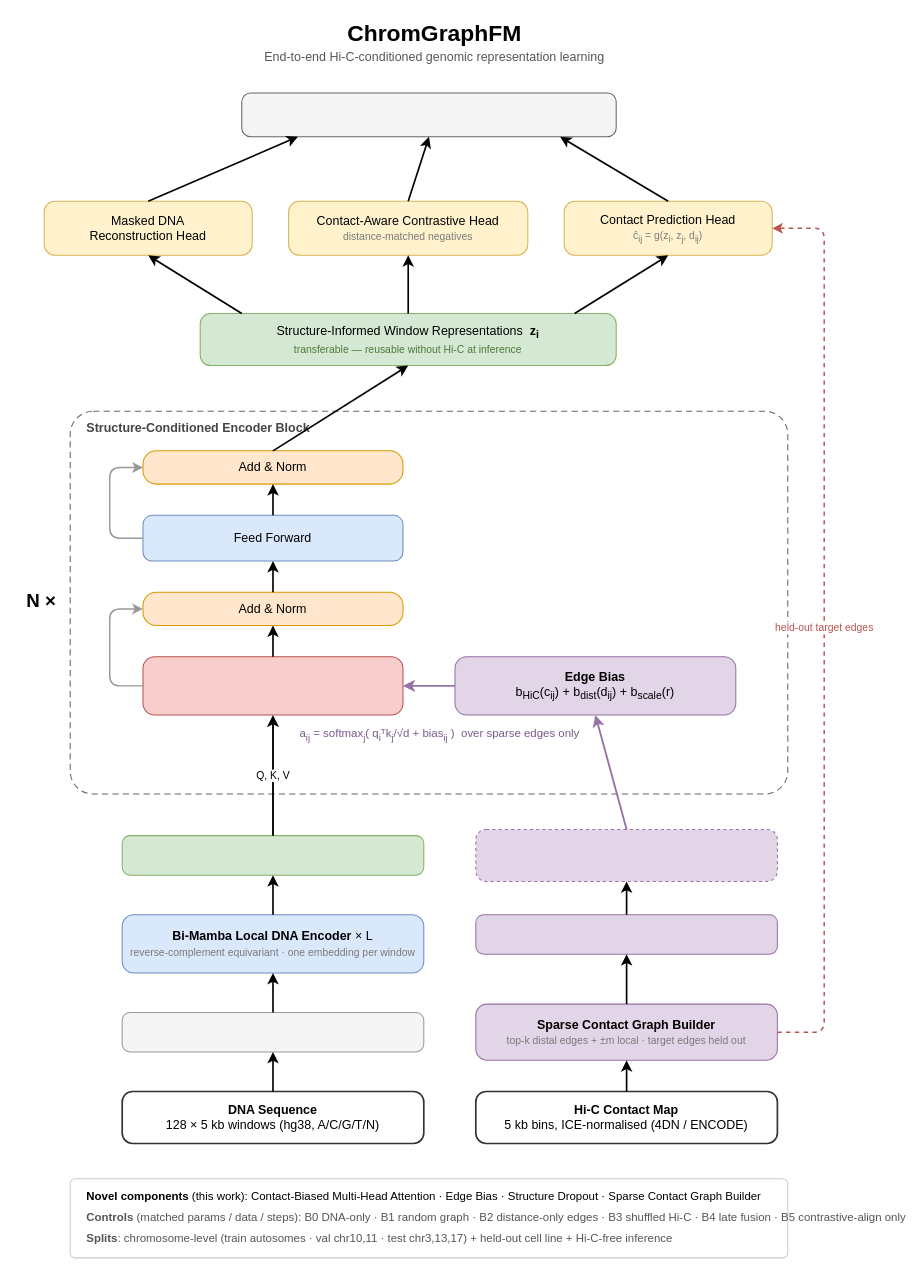
Some shapes in this 924 by 1276 pixel diagram are drawn without their labels. The shapes that lost their labels are listed below. From the top down, each one's centre as x and y in pixels, then its label:
At [428,114]: "L total = λ DNA L DNA + λ con L contrast + λ c L contact".
At [272,685]: "Contact-Biased Multi-Head Attention".
At [272,855]: "Window Embeddings h i (graph nodes)".
At [626,854]: "Structure Dropout (p = 0.3) whole graph dropped → enables Hi-C-free inference".
At [626,934]: "Edge Features c ij , d ij , r , cell-type".
At [272,1031]: "Nucleotide Embedding + Positional Encoding".
